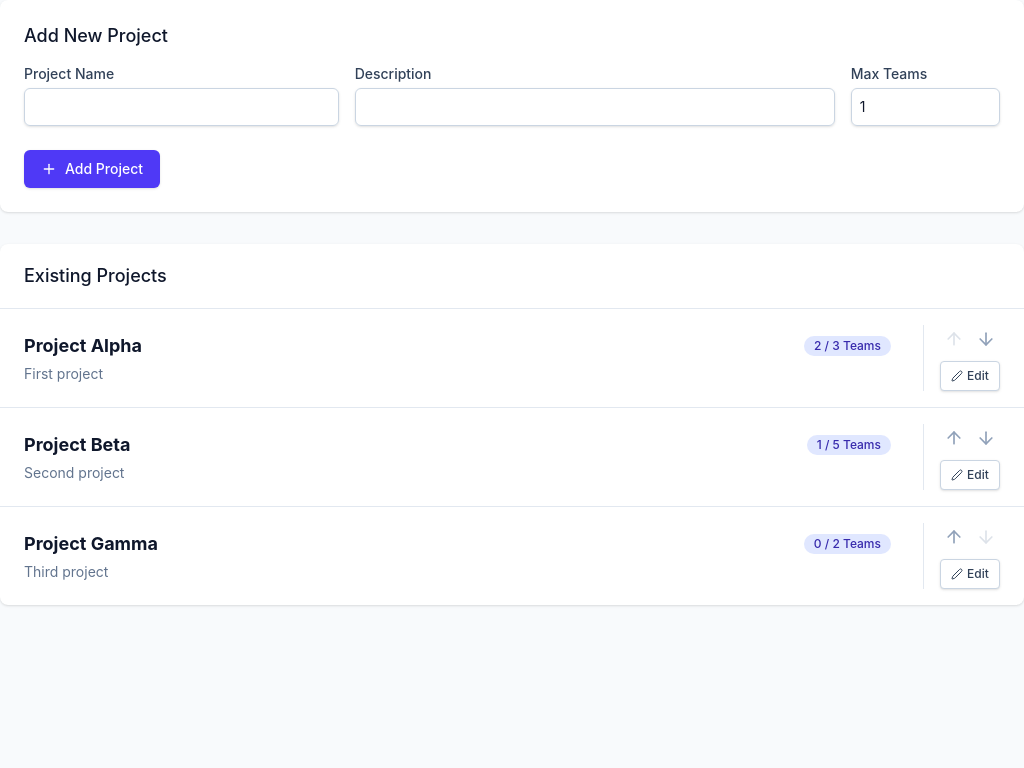
Test: ProjectsPanel › cannot decrease max_teams below current value
Expected: the heading "Project Alpha" is shown, [24,332,142,360]
Click the button "Edit" in the row of "First project" at (970, 376), box [940,361,1000,391]
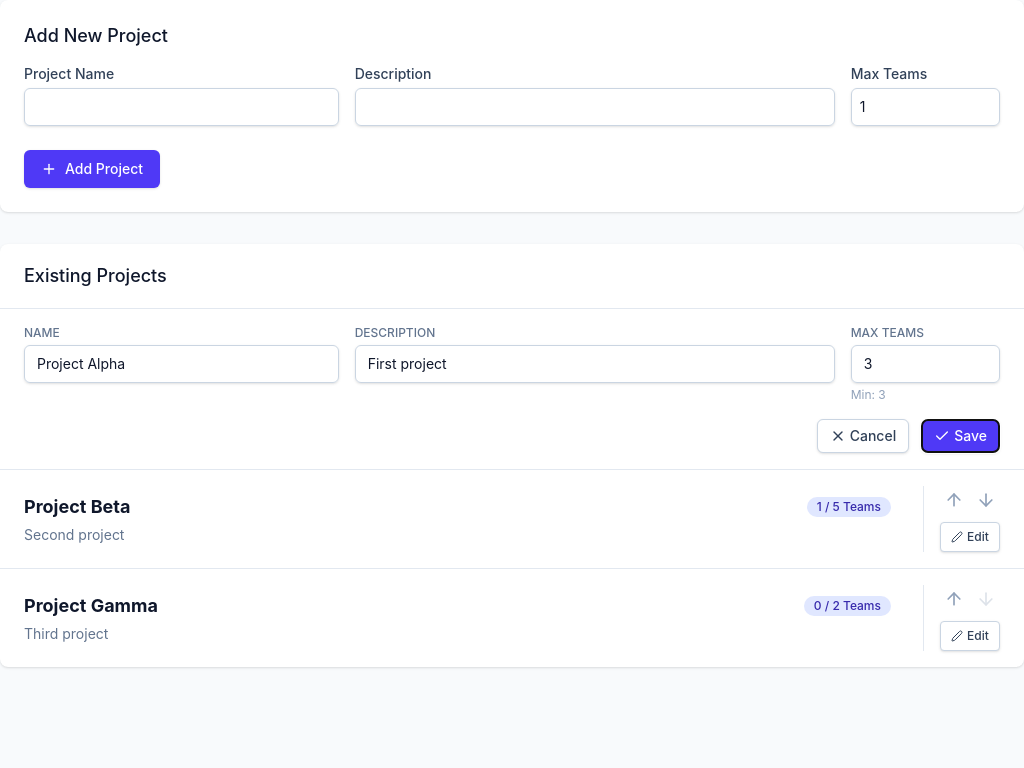
Now the text "Min: 3" is shown, box [851,387,886,402]
Note: Find the max_teams edit input (it's a number input in edit mode)
Replace the text in the 2nd number field with "2" at (925, 364), box [851,345,1000,383]
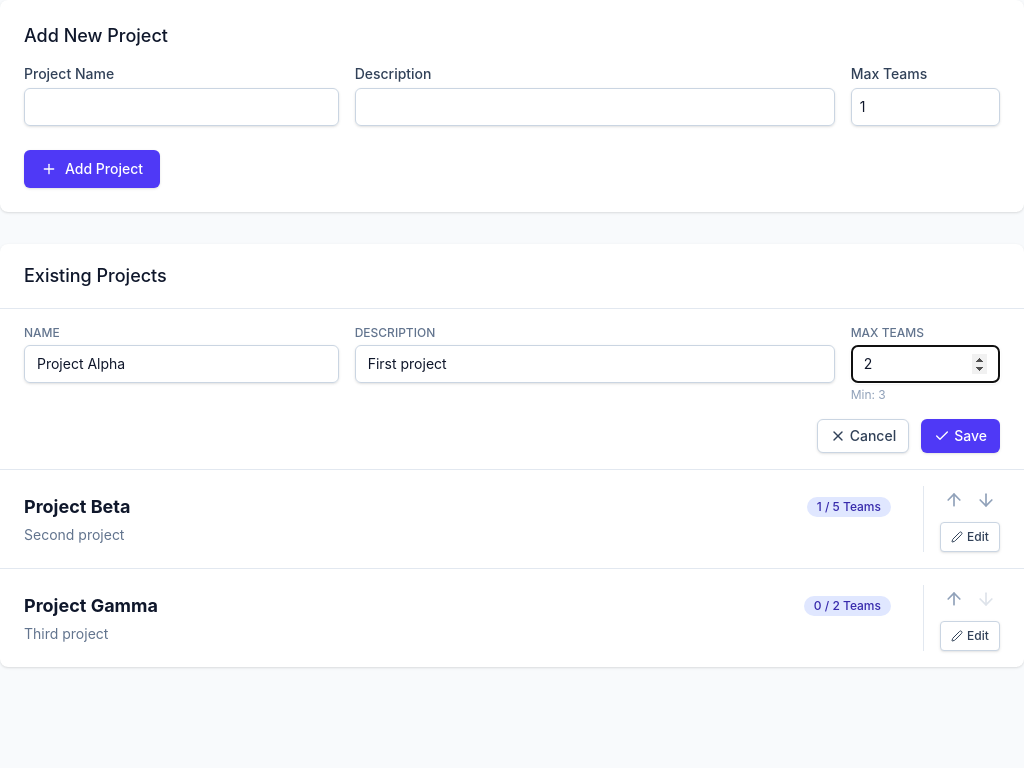
Click the button "Save" at (961, 436), box [921,419,1000,453]
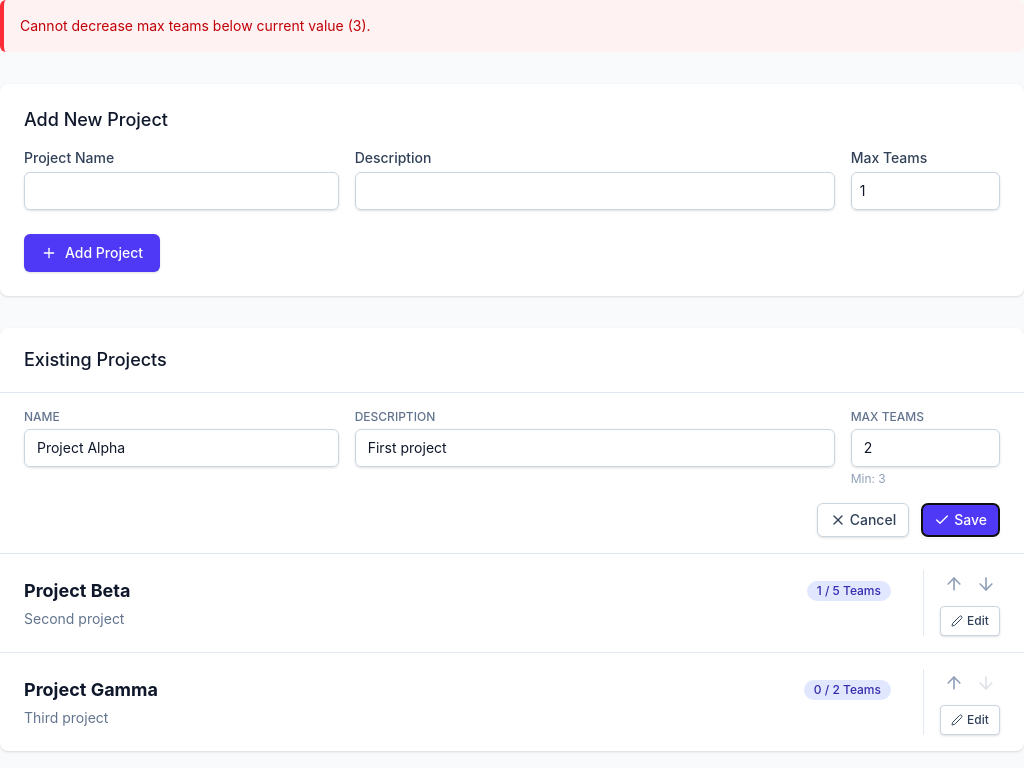
Now the text "Cannot decrease max teams below current value (3)." is shown, box [20,17,371,34]
